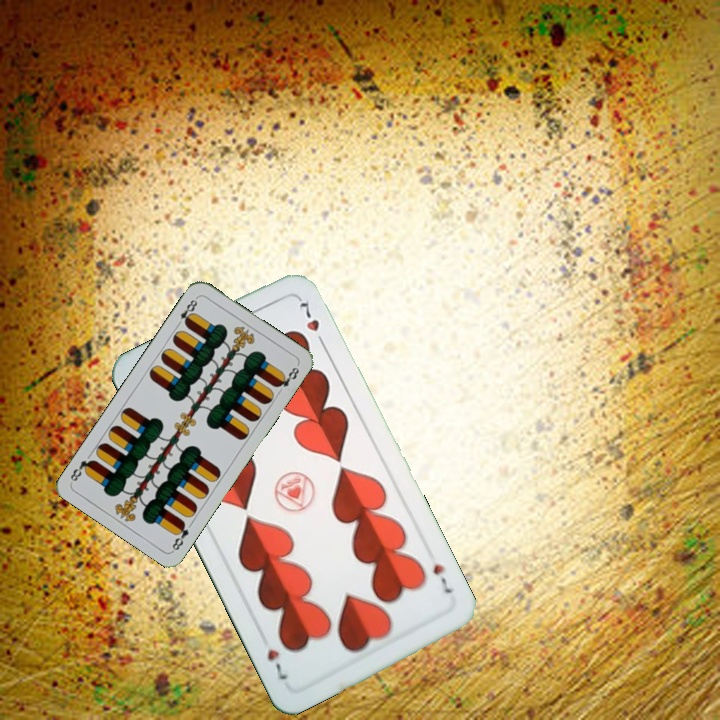E8: (173, 293, 201, 329), (168, 518, 191, 553)
H7: (428, 560, 457, 596)
